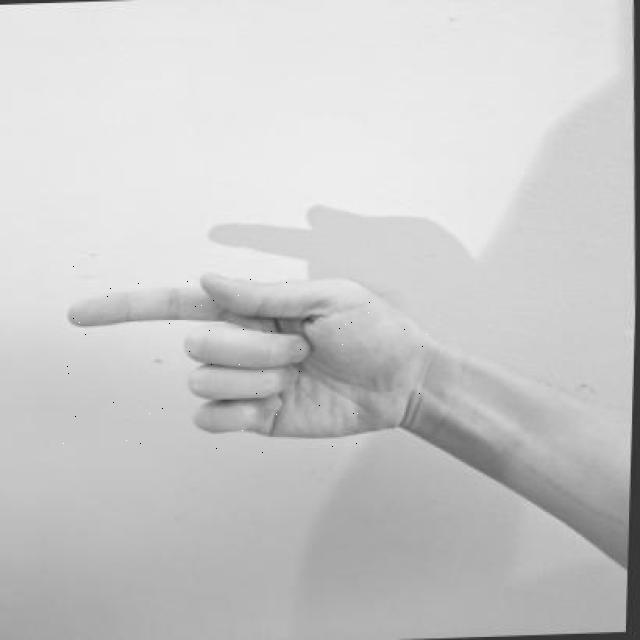G: (58, 260, 437, 455)
